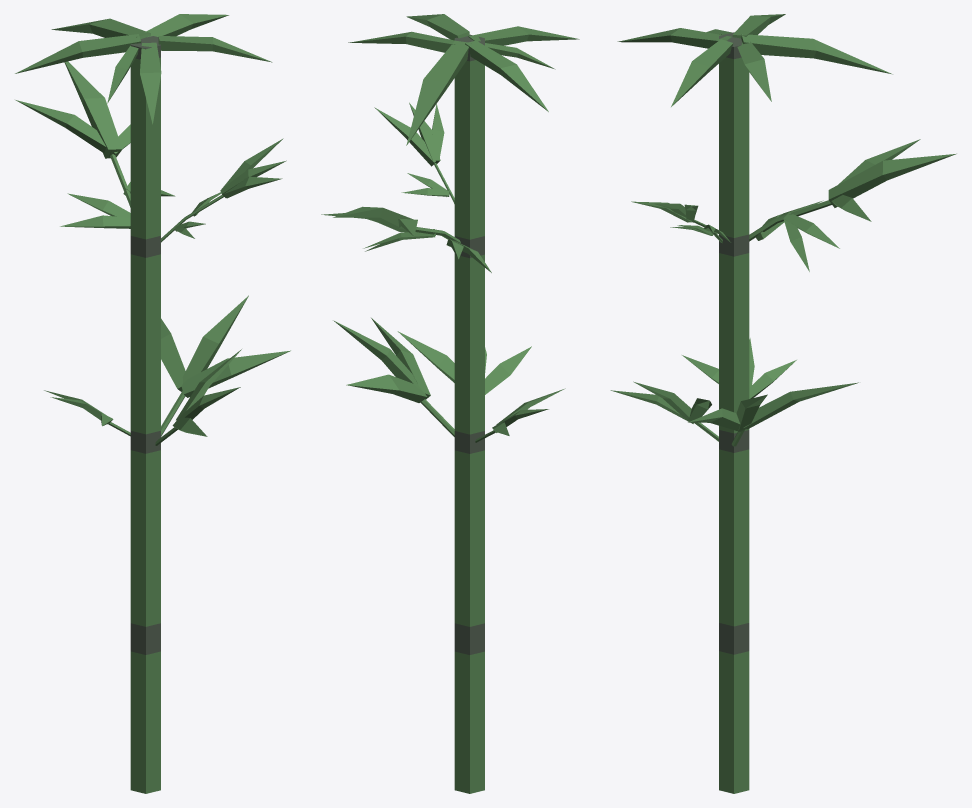
3 renders of one model, left to right at view 1: azimuth 30°, elevation 25°; view 2: azimuth 150°, elevation 25°; view 3: azimuth 270°, elevation 25°, orthographic.
Visible parts, largest first — view 1: bamboo1; view 2: bamboo1; view 3: bamboo1.
Part boxes in pixels (x1,y1,x2,y2): bamboo1: (15, 14, 290, 793); bamboo1: (321, 14, 579, 793); bamboo1: (610, 14, 956, 793).
Size of the model in its own units: 49.49 by 155 by 65.09.
